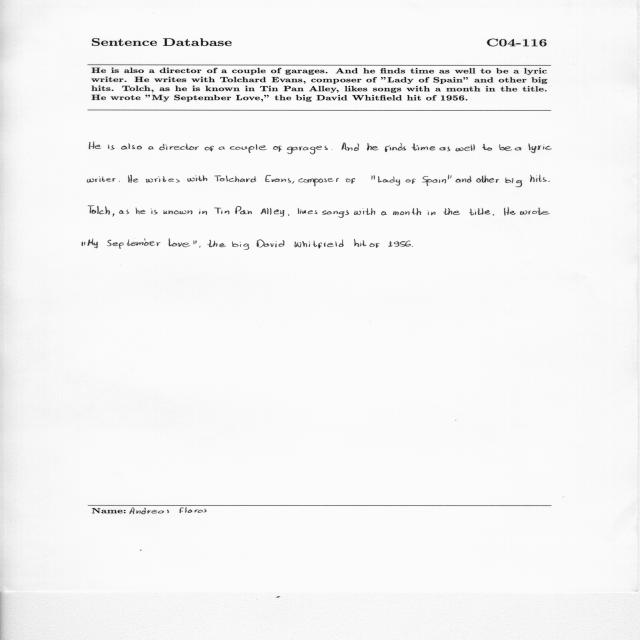word: (107, 238, 160, 249), (294, 240, 344, 249), (230, 144, 267, 153), (287, 146, 328, 154), (298, 178, 339, 186), (214, 176, 256, 183), (159, 144, 199, 151), (528, 144, 552, 154), (422, 176, 446, 186), (257, 240, 285, 248), (378, 176, 400, 186), (261, 208, 285, 217), (322, 210, 349, 218), (520, 208, 550, 215), (146, 177, 180, 183), (87, 176, 116, 183), (88, 206, 110, 215), (393, 208, 421, 215), (385, 143, 406, 152), (265, 175, 291, 182), (412, 144, 436, 151), (169, 239, 190, 247), (476, 176, 499, 183), (388, 240, 411, 247), (342, 142, 359, 151), (505, 178, 522, 187), (232, 241, 249, 250), (121, 143, 142, 150), (354, 208, 375, 215), (469, 208, 490, 215), (455, 145, 475, 152), (187, 175, 207, 182), (235, 206, 252, 214), (207, 240, 226, 247), (298, 208, 318, 214), (530, 175, 547, 182), (444, 208, 461, 215), (164, 210, 193, 214), (456, 176, 472, 183), (214, 208, 230, 215), (87, 239, 98, 249), (504, 207, 516, 215), (354, 239, 366, 247), (499, 144, 512, 151), (128, 175, 139, 183), (90, 142, 102, 149), (367, 143, 378, 150), (405, 178, 416, 184), (482, 144, 492, 150), (345, 178, 355, 184), (136, 208, 146, 214), (273, 146, 282, 152), (204, 146, 214, 151), (370, 243, 380, 248), (199, 209, 207, 215), (427, 211, 436, 216), (440, 147, 451, 151), (151, 209, 158, 215), (119, 210, 129, 214), (108, 145, 115, 150), (148, 146, 154, 150), (219, 146, 225, 150), (381, 212, 387, 216), (371, 175, 375, 180), (515, 147, 521, 150), (82, 242, 86, 246), (193, 241, 197, 245), (448, 175, 451, 179), (113, 213, 115, 217), (292, 181, 294, 184), (288, 214, 290, 216), (199, 246, 201, 248), (548, 181, 550, 182), (332, 149, 333, 150), (119, 181, 120, 182), (493, 215, 494, 216), (412, 246, 413, 247)
